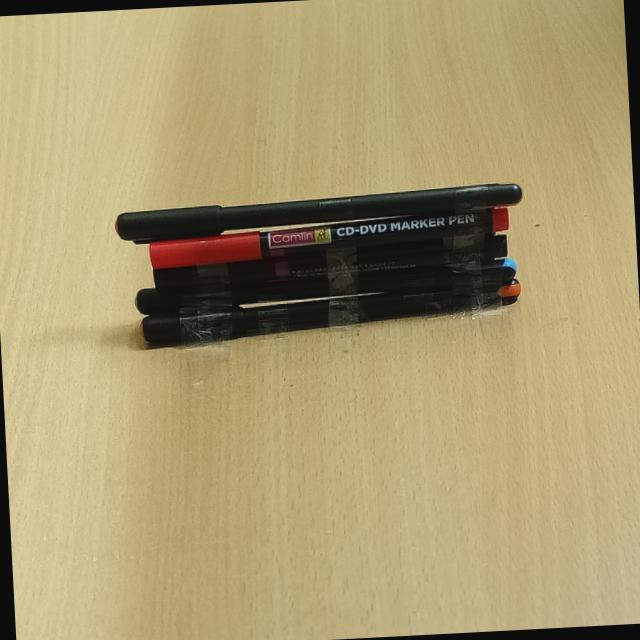marker: (108, 210, 528, 264)
pen: (89, 170, 546, 230), (114, 254, 560, 308)
